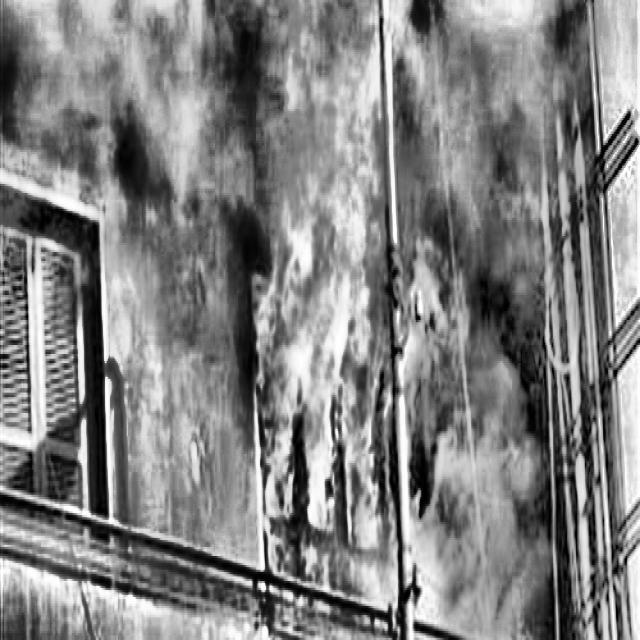fire: (209, 73, 469, 602)
